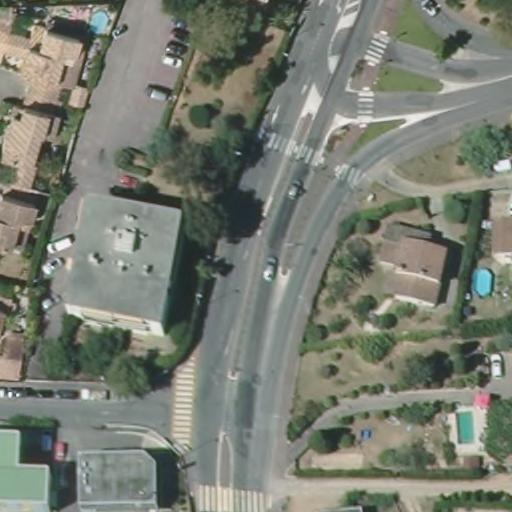pool: (87, 10, 115, 33), (476, 266, 493, 298)
